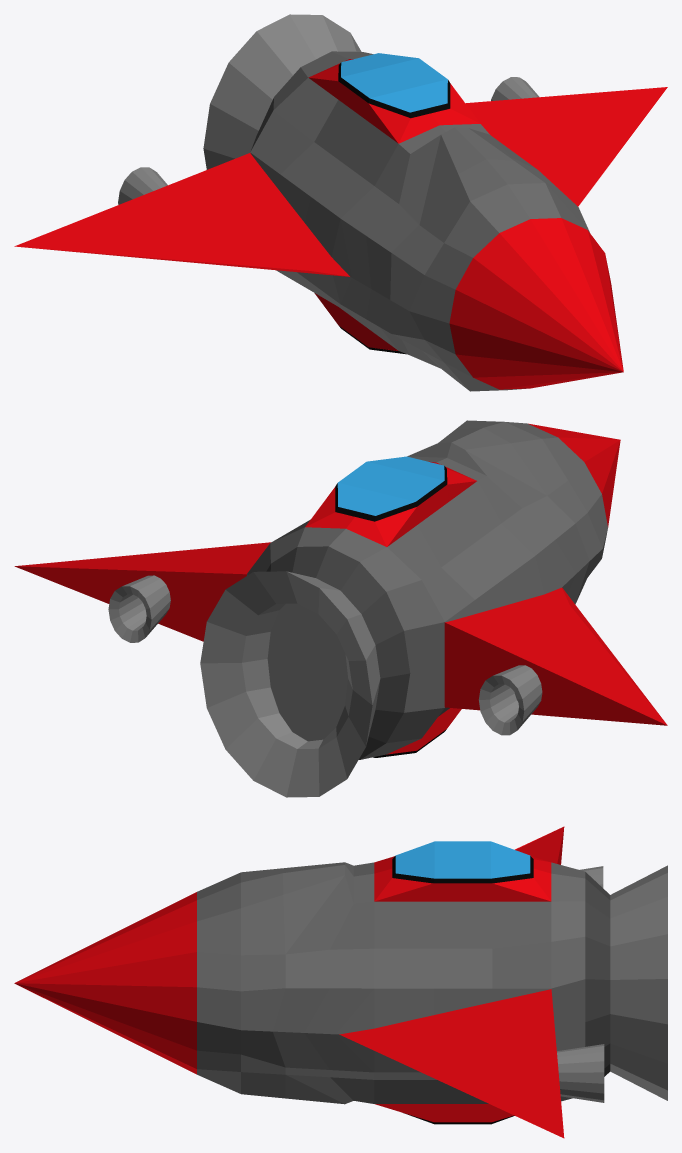
The model's file is Rocket_Mark_2.fbx.
The picture shows the model from 3 angles, top to bottom: view 1: azimuth 30°, elevation 25°; view 2: azimuth 150°, elevation 25°; view 3: azimuth 270°, elevation 25°; orthographic projection. The views are drawn at different scales.
Visible parts, largest first — view 1: Cone, Cone.006, Cone.005, Cone.001, Cone.004, Cone.002, Cone.003, Cone.007; view 2: Cone, Cone.001, Cone.006, Cone.005, Cone.004, Cone.003, Cone.007, Cone.002; view 3: Cone, Cone.005, Cone.001, Cone.004, Cone.007, Cone.002, Cone.006.
Part boxes in pixels (bbox=[...]): Cone: bbox=[250, 51, 623, 391]; Cone.006: bbox=[14, 153, 349, 276]; Cone.005: bbox=[465, 87, 667, 206]; Cone.001: bbox=[203, 14, 361, 169]; Cone.004: bbox=[308, 53, 480, 143]; Cone.002: bbox=[314, 293, 406, 354]; Cone.003: bbox=[118, 167, 167, 204]; Cone.007: bbox=[491, 77, 539, 100]; Cone: bbox=[247, 420, 620, 759]; Cone.001: bbox=[200, 571, 380, 797]; Cone.006: bbox=[444, 587, 667, 725]; Cone.005: bbox=[14, 542, 270, 641]; Cone.004: bbox=[305, 456, 476, 546]; Cone.003: bbox=[478, 665, 542, 735]; Cone.007: bbox=[108, 575, 170, 642]; Cone.002: bbox=[373, 708, 461, 757]; Cone: bbox=[14, 862, 610, 1104]; Cone.005: bbox=[339, 989, 564, 1138]; Cone.001: bbox=[610, 865, 667, 1100]; Cone.004: bbox=[374, 841, 551, 901]; Cone.007: bbox=[557, 1044, 604, 1102]; Cone.002: bbox=[375, 1104, 514, 1124]; Cone.006: bbox=[515, 826, 564, 864].
Bounding box in the file's own units: 8.08 × 7.15 × 2.97.
